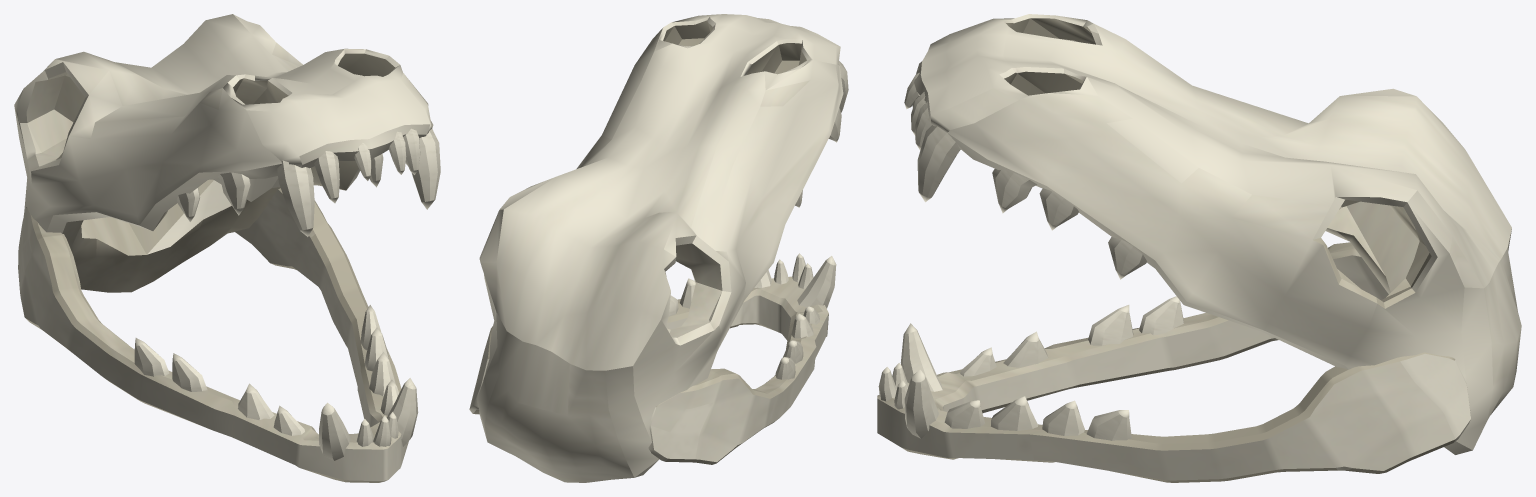
The model's file is DragonSkull.fbx.
3 views of the same model, side by side, from view 1: azimuth 30°, elevation 25°; view 2: azimuth 150°, elevation 25°; view 3: azimuth 270°, elevation 25° (orthographic). The views are drawn at different scales.
Parts seen in each view (by area): view 1: Head; view 2: Head; view 3: Head.
Boxes of the visible parts, x1,y1,x2,y2 form: Head: [14, 14, 440, 482]; Head: [469, 14, 848, 482]; Head: [877, 14, 1521, 482].
Size of the model in its own units: 1.66 by 2.1 by 3.05.
Materials: 1 (1 with a texture image).
